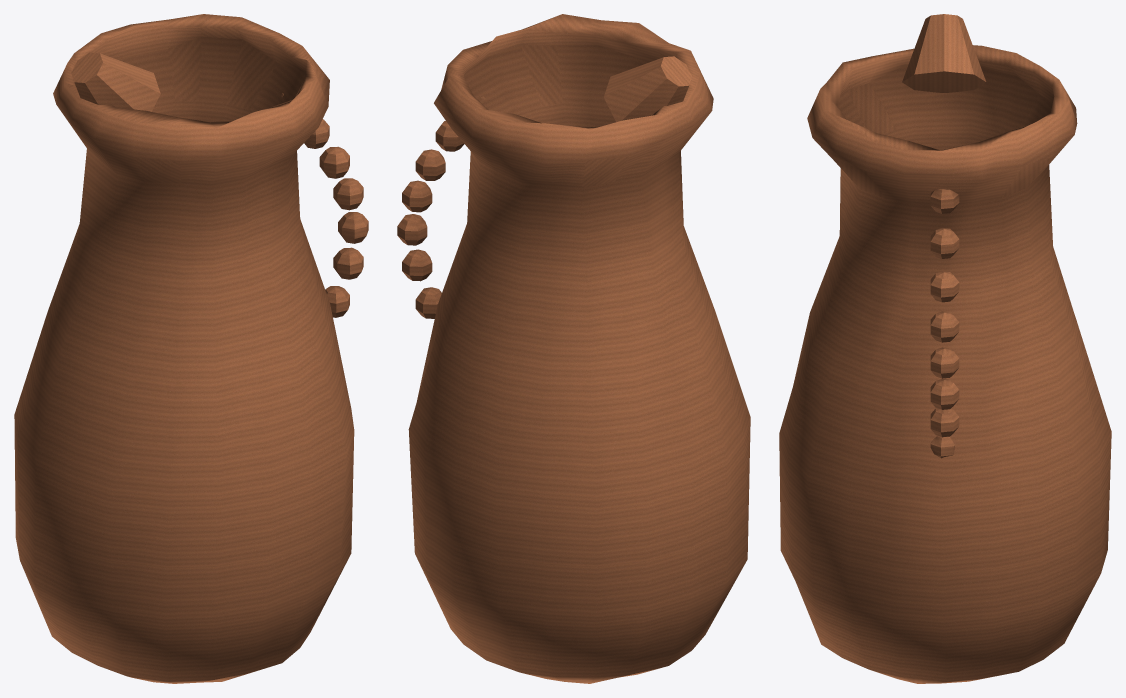
Rendered from pitcher.glb.
3 renders of one model, left to right at view 1: azimuth 30°, elevation 25°; view 2: azimuth 150°, elevation 25°; view 3: azimuth 270°, elevation 25°, orthographic. The views are drawn at different scales.
Visible parts, largest first — view 1: pitcher; view 2: pitcher; view 3: pitcher.
Part boxes in pixels (x1,y1,x2,y2): pitcher: (14,14,368,683); pitcher: (397,14,750,683); pitcher: (779,14,1111,683).
Bounding box in the file's own units: 0.3955 × 0.7047 × 0.354.
Materials: 1 (1 with a texture image).
